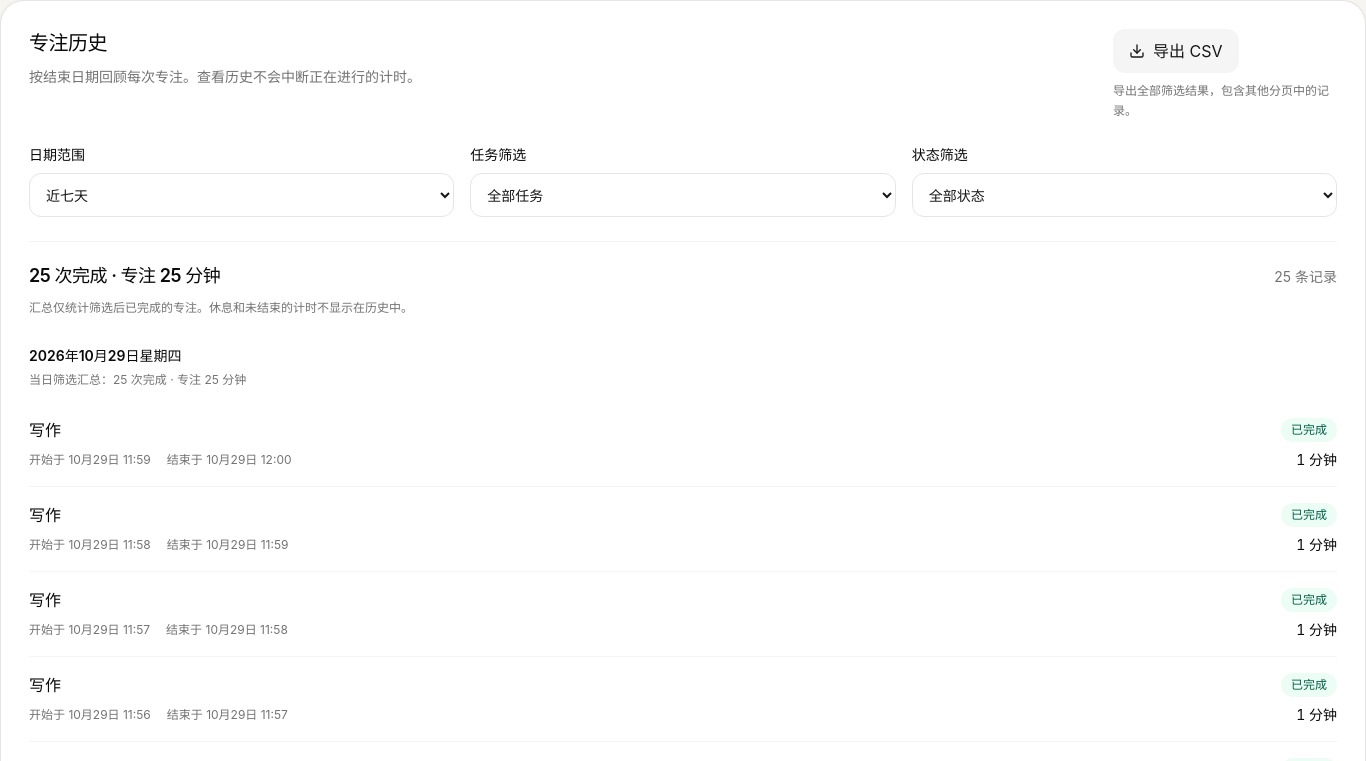
Test: validates custom dates and disables export until the range is valid
Select "自定义日期" in the dropdown labelled "日期范围" at (242,195), box [29, 173, 454, 217]
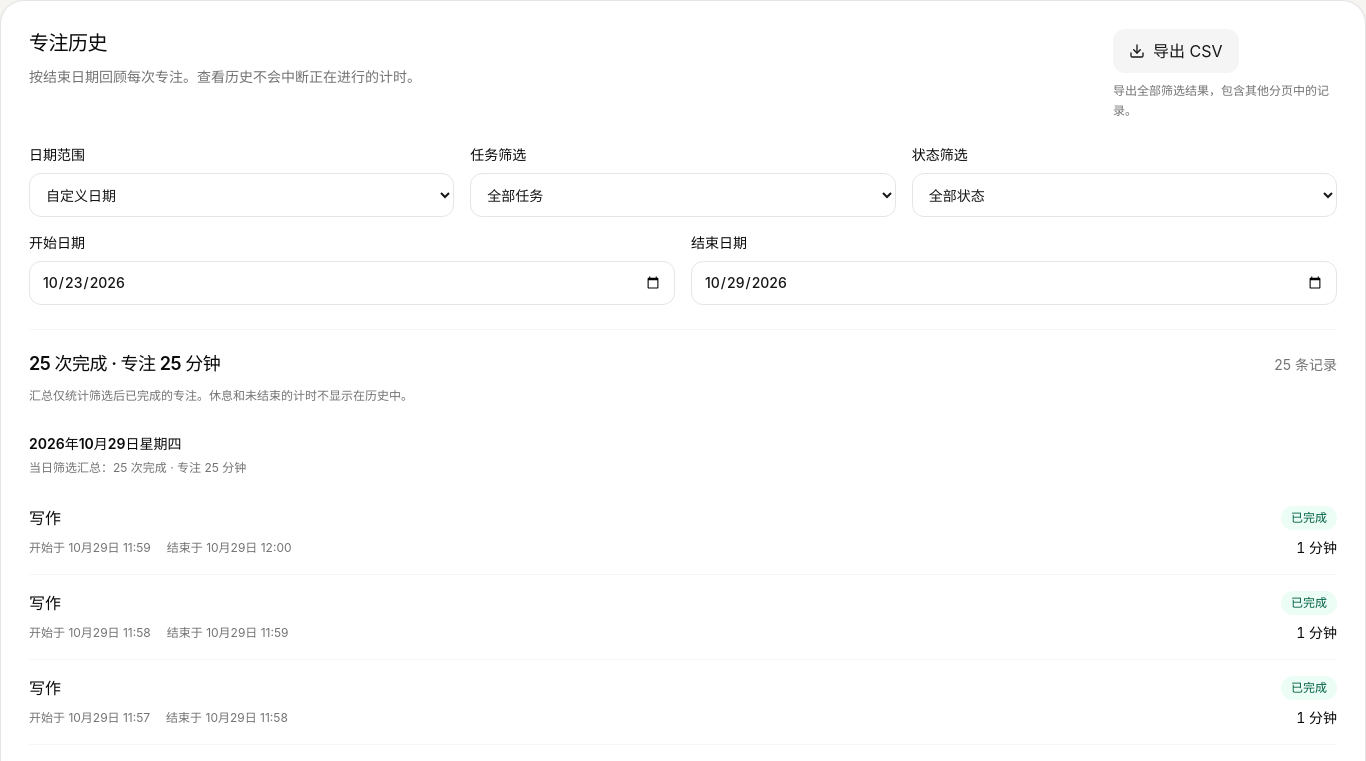
Type "2026-10-30" into the date field labelled "开始日期" at (352,283), box [29, 261, 675, 305]
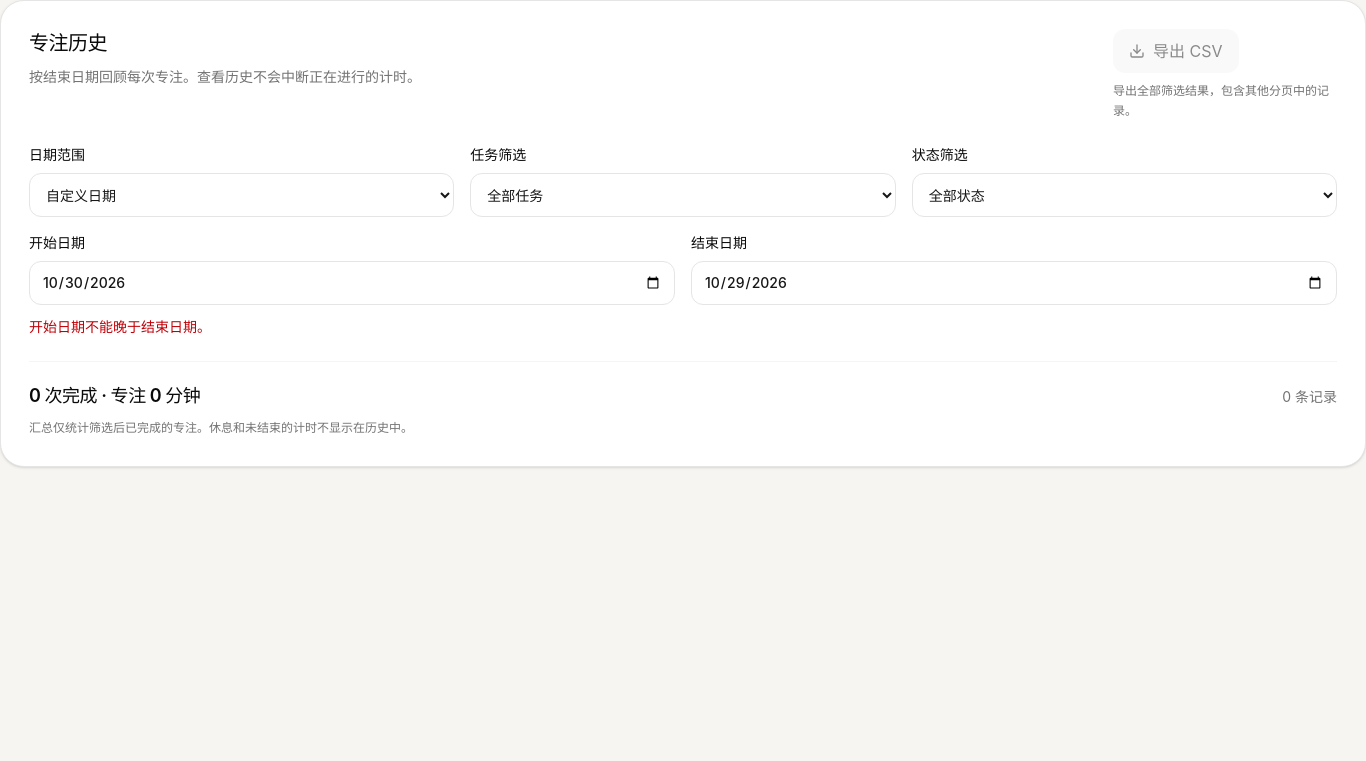
Now the message "开始日期不能晚于结束日期。" is shown, box [29, 318, 211, 335]
Now the button "导出 CSV" is disabled, box [1113, 29, 1238, 73]
Type "2026-10-29" into the date field labelled "开始日期" at (352,283), box [29, 261, 675, 305]
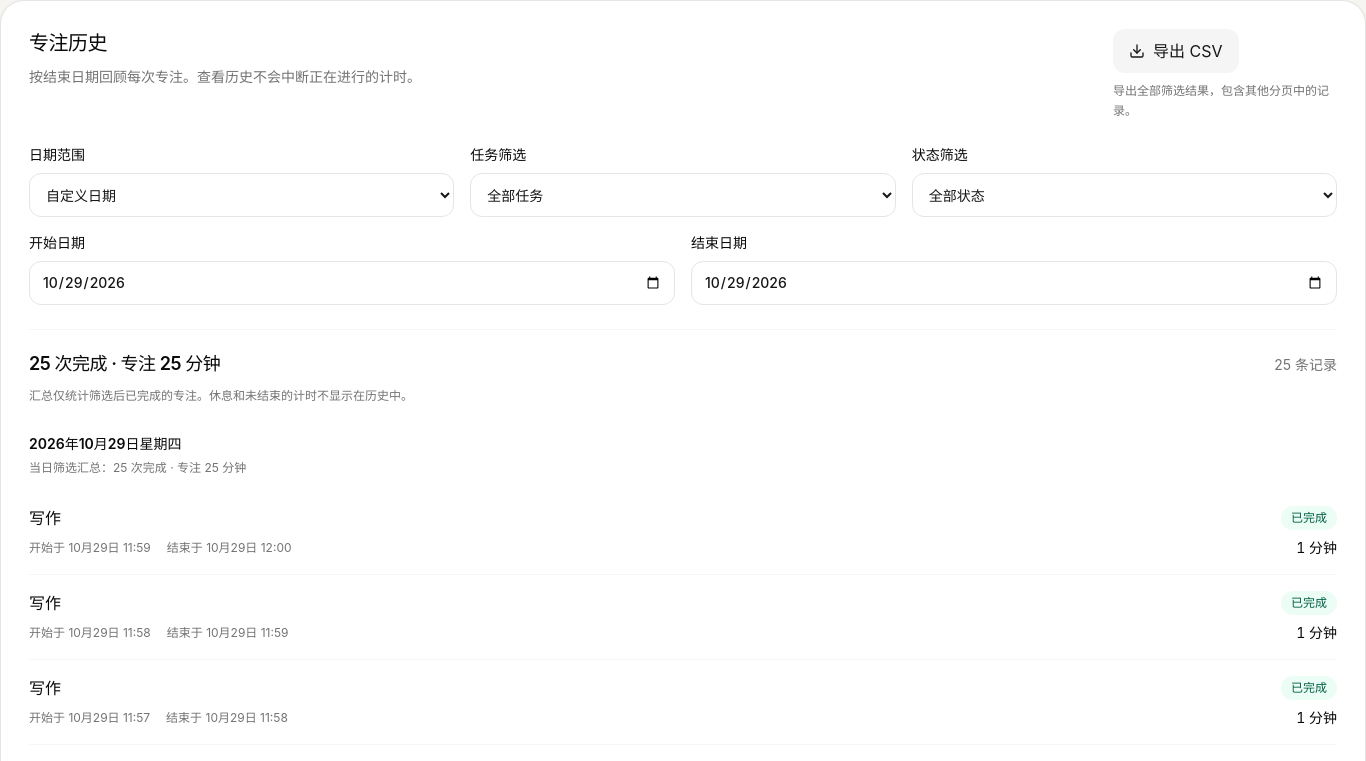
Now the message "开始日期不能晚于结束日期。" is gone
Now the button "导出 CSV" is enabled, box [1113, 29, 1238, 73]
